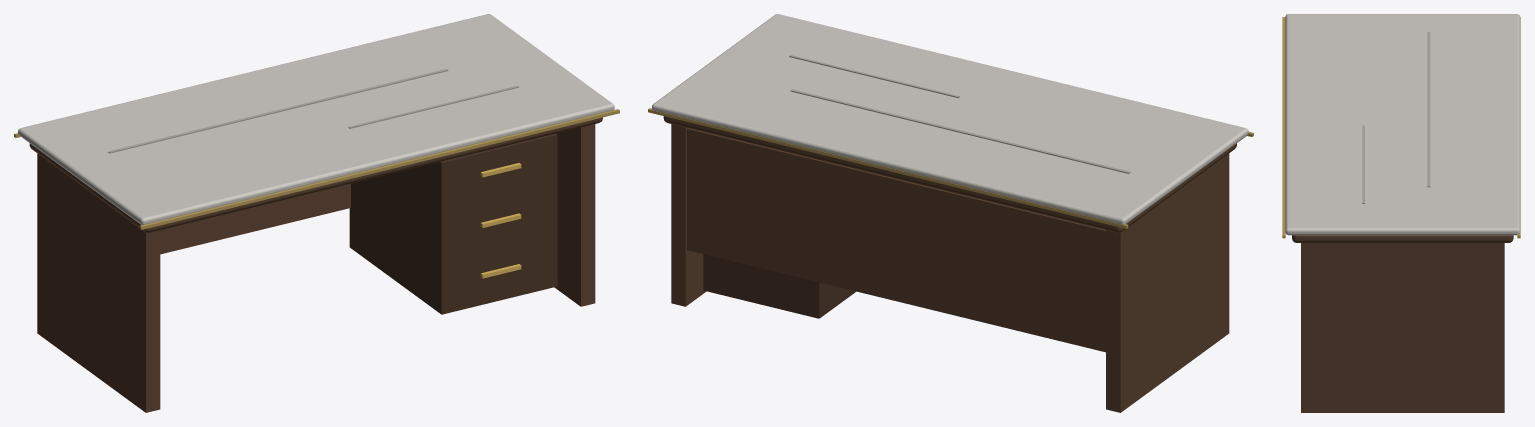
The model's file is mesa-diretor-marmore.glb.
The picture shows the model from 3 angles, left to right: view 1: azimuth 30°, elevation 25°; view 2: azimuth 150°, elevation 25°; view 3: azimuth 270°, elevation 25°; orthographic projection. The views are drawn at different scales.
Parts seen in each view (by area): view 1: mesa-diretor-marmore_malha; view 2: mesa-diretor-marmore_malha; view 3: mesa-diretor-marmore_malha.
Part boxes in pixels (x1,y1,x2,y2): mesa-diretor-marmore_malha: (14,14,619,412); mesa-diretor-marmore_malha: (648,14,1253,412); mesa-diretor-marmore_malha: (1282,14,1520,412).
Bounding box in the file's own units: 1.98 × 0.804 × 0.912.
